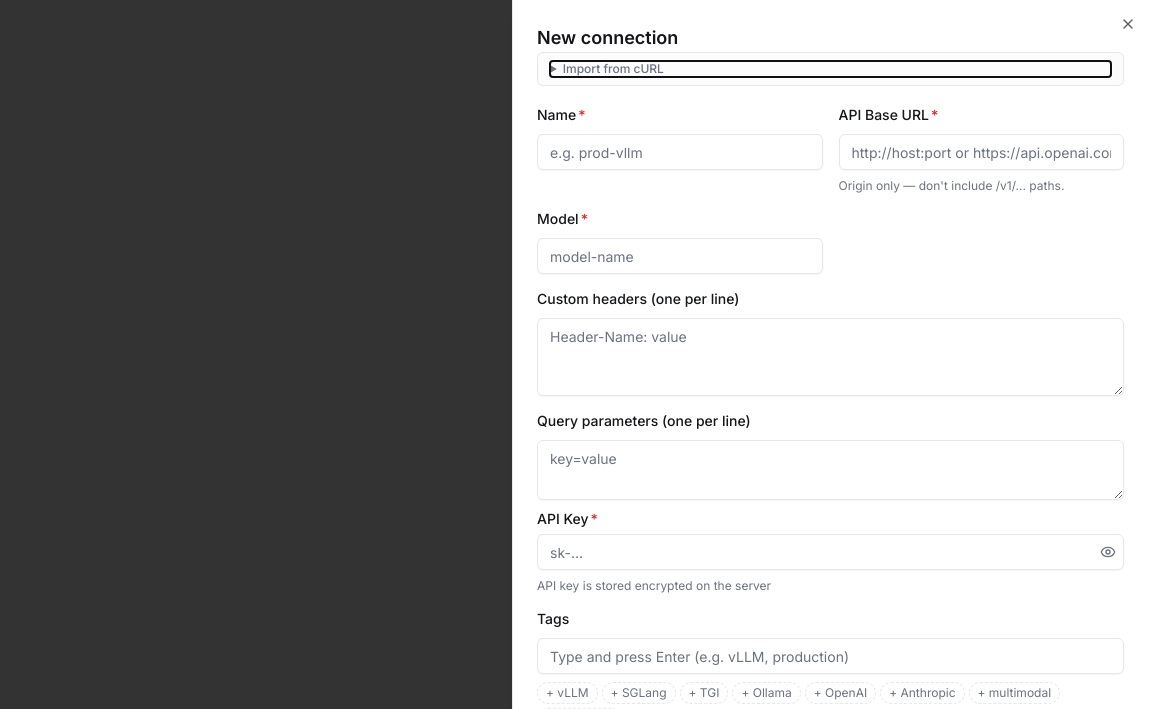
Test case: ConnectionSheet — Discover region › shows SSRF warning banner on Cloud-metadata error
The width and height of the screenshot is (1152, 709).
Type "http://169.254.169.254" into the field labelled "API Base URL*" at {"x": 981, "y": 152}, box [838,134,1124,170]
(page scrolled)
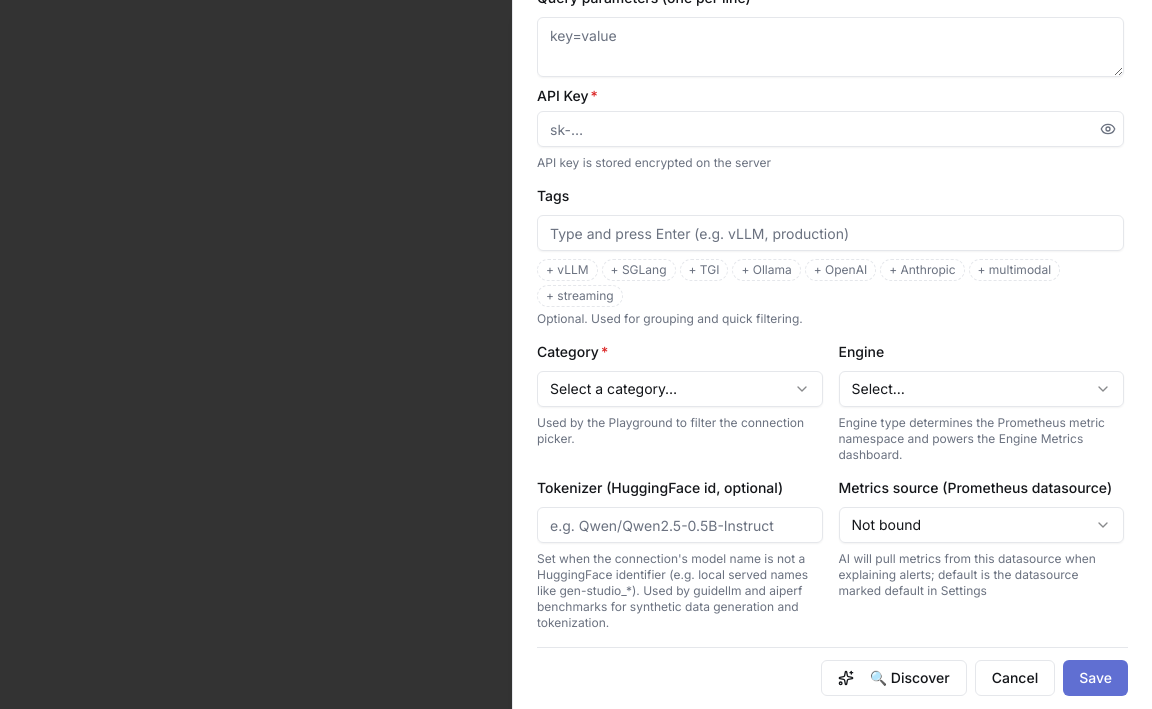
Click the button "🔍 Discover" at {"x": 894, "y": 678}, box [821,660,967,696]
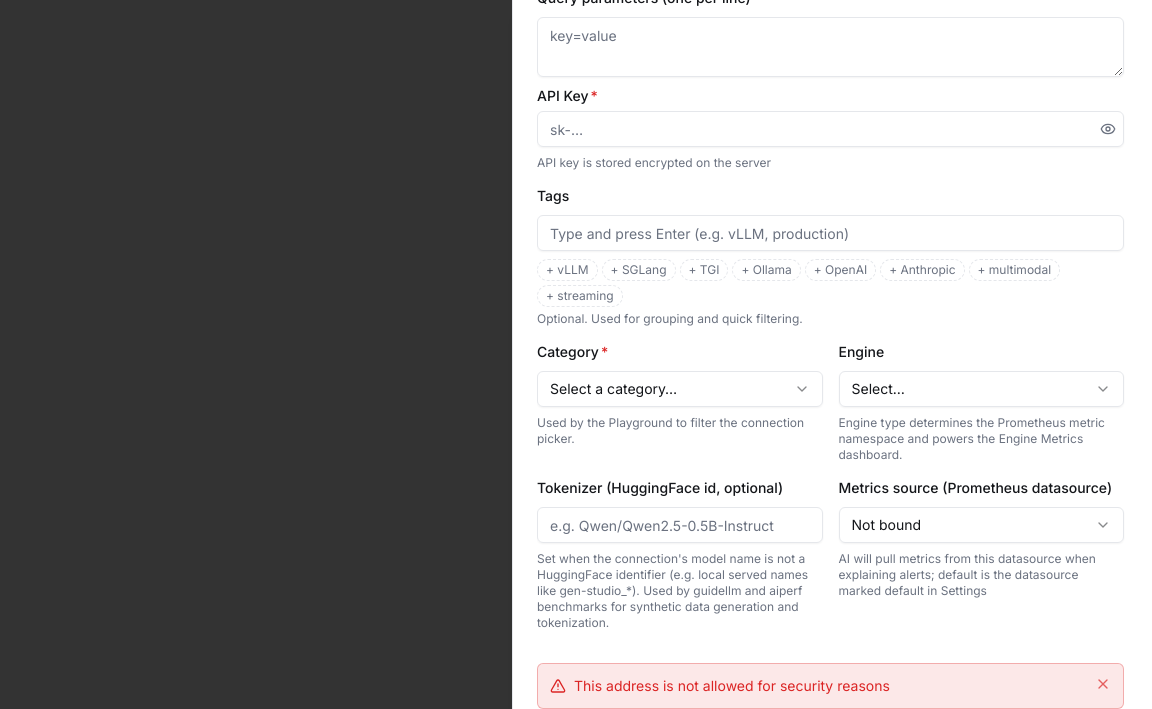
Check: the text "This address is not allowed for security reasons" is shown, box [574,677,890,694]
